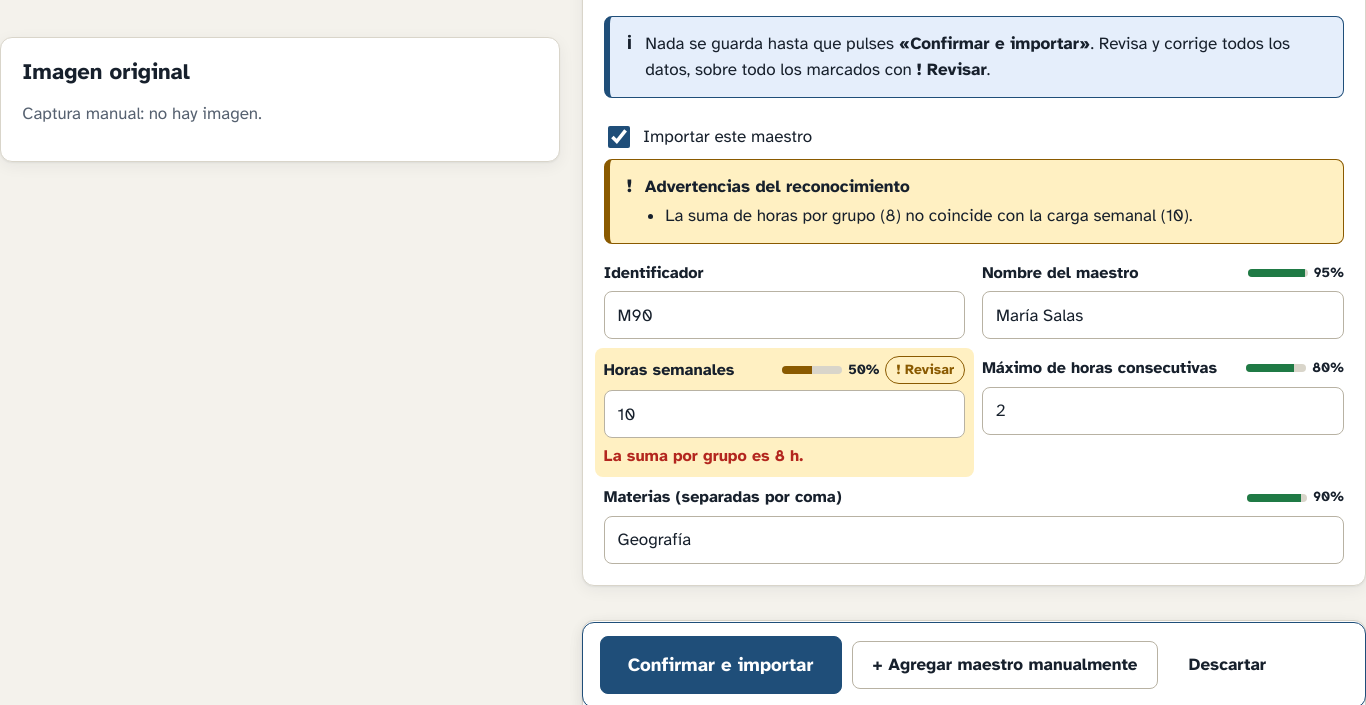
Pantalla de revisión de fotografía › no permite confirmar con datos incompletos
The width and height of the screenshot is (1366, 705).
Clear the field labelled "Nombre del maestro 95%" at (1163, 315), box [982,291,1344,339]
(page scrolled)
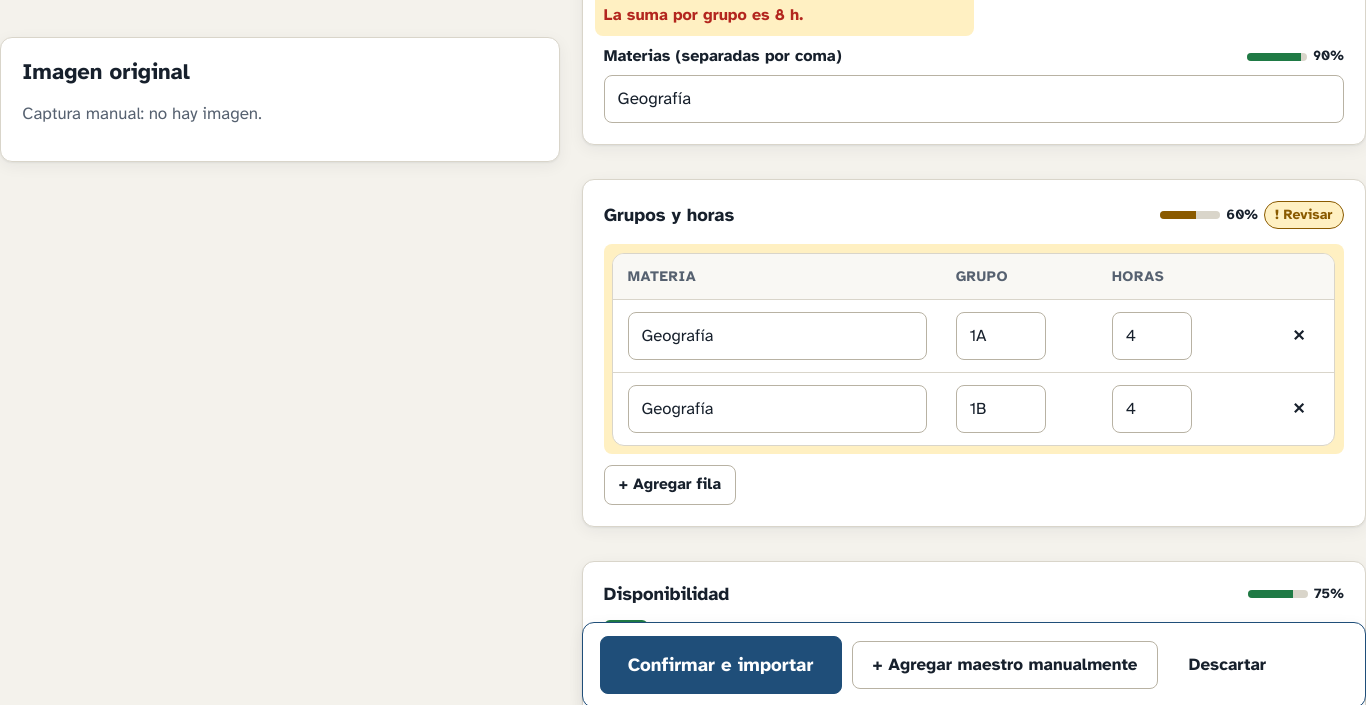
Clear the field named "Grupo de la fila 1" at (1001, 336), box [956,312,1046,360]
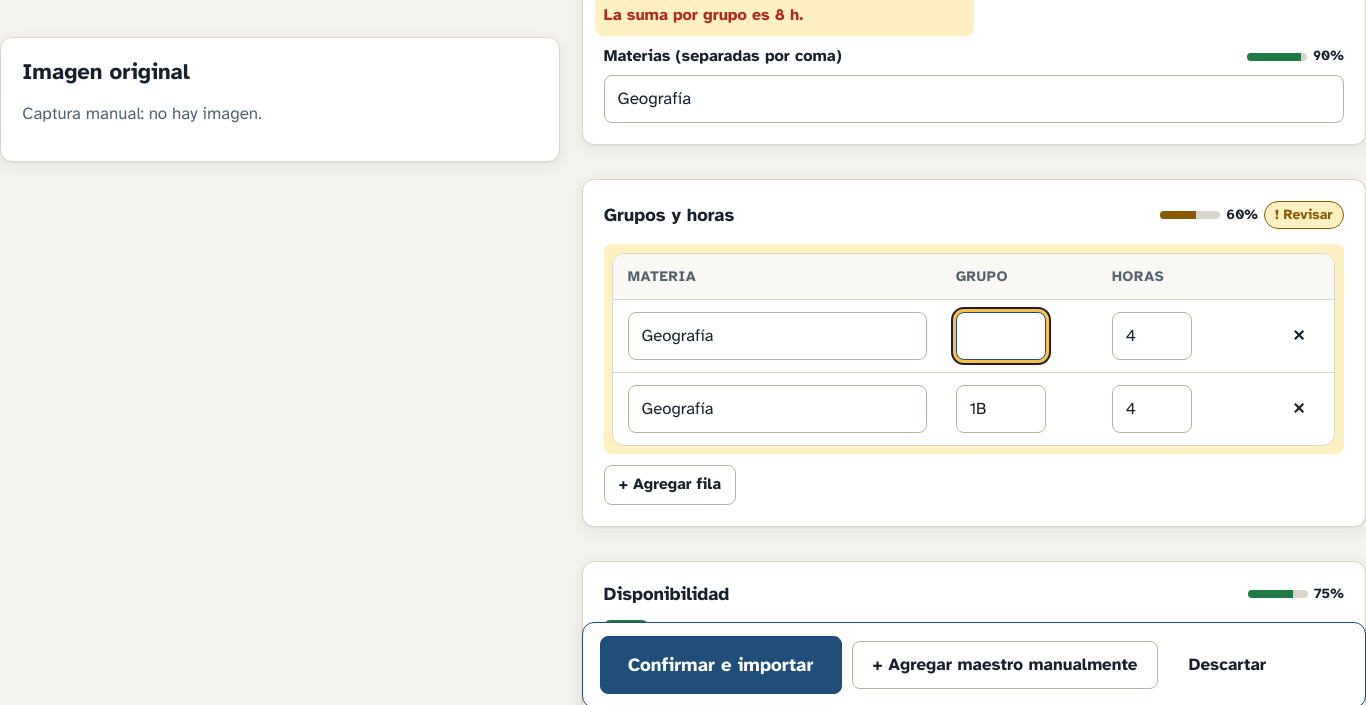
Click the button "Confirmar e importar" at (721, 664), box [600,636,842,694]
(page scrolled)
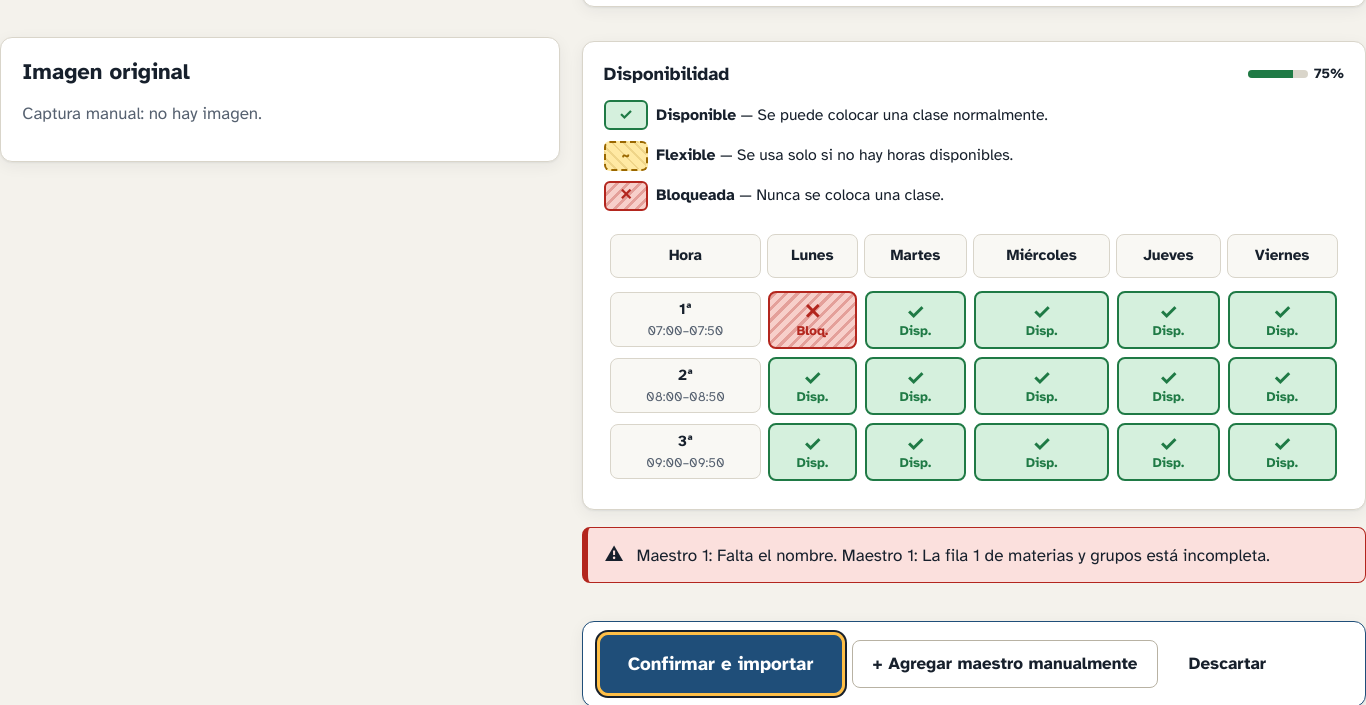
Now the message shows "fila 1", box [636,544,1270,566]
